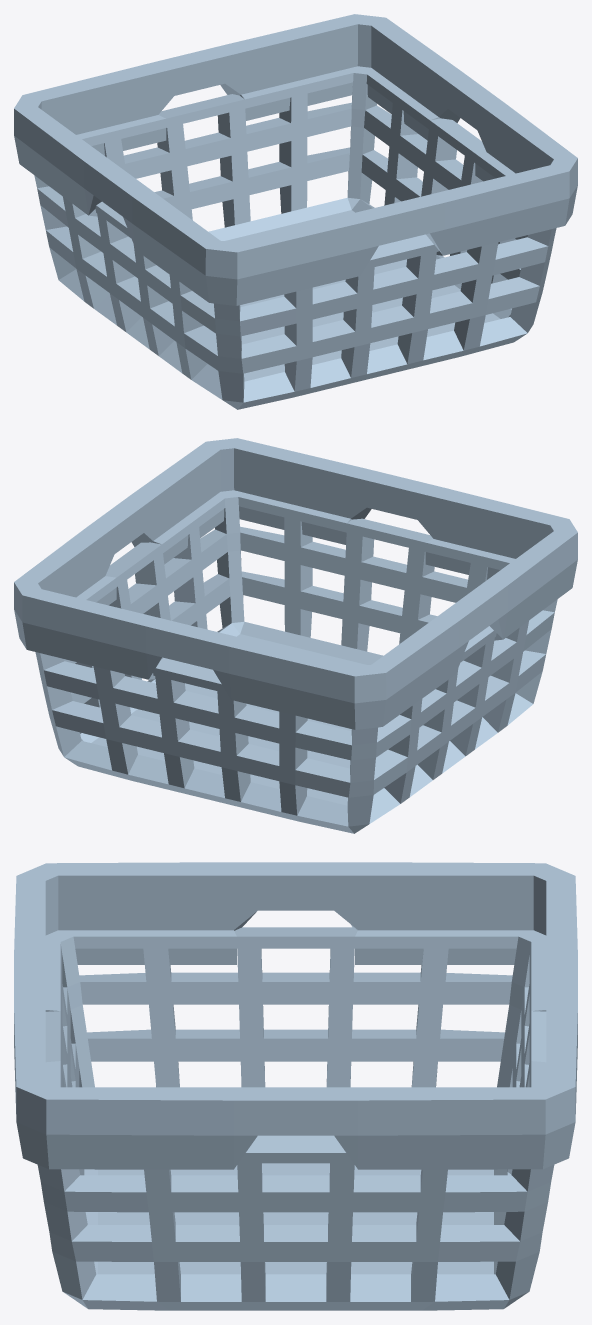
Rendered from MDL_basket.fbx.
3 views of the same model, one above another, from view 1: azimuth 30°, elevation 25°; view 2: azimuth 150°, elevation 25°; view 3: azimuth 270°, elevation 25° (orthographic). The views are drawn at different scales.
Parts seen in each view (by area): view 1: MDL_basket; view 2: MDL_basket; view 3: MDL_basket.
Part boxes in pixels (bbox=[...]): MDL_basket: bbox=[14, 14, 577, 409]; MDL_basket: bbox=[14, 438, 577, 833]; MDL_basket: bbox=[14, 862, 577, 1310].
Size of the model in its own units: 102 by 48.22 by 102.
